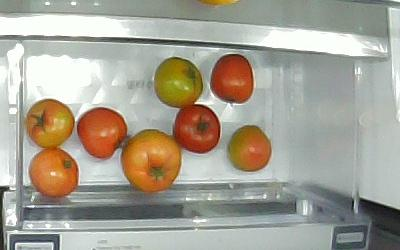tomato: (121, 129, 183, 194), (77, 108, 129, 161), (28, 147, 81, 198), (154, 56, 203, 110), (24, 99, 73, 148), (173, 104, 220, 155), (210, 55, 255, 106), (227, 125, 274, 172)
